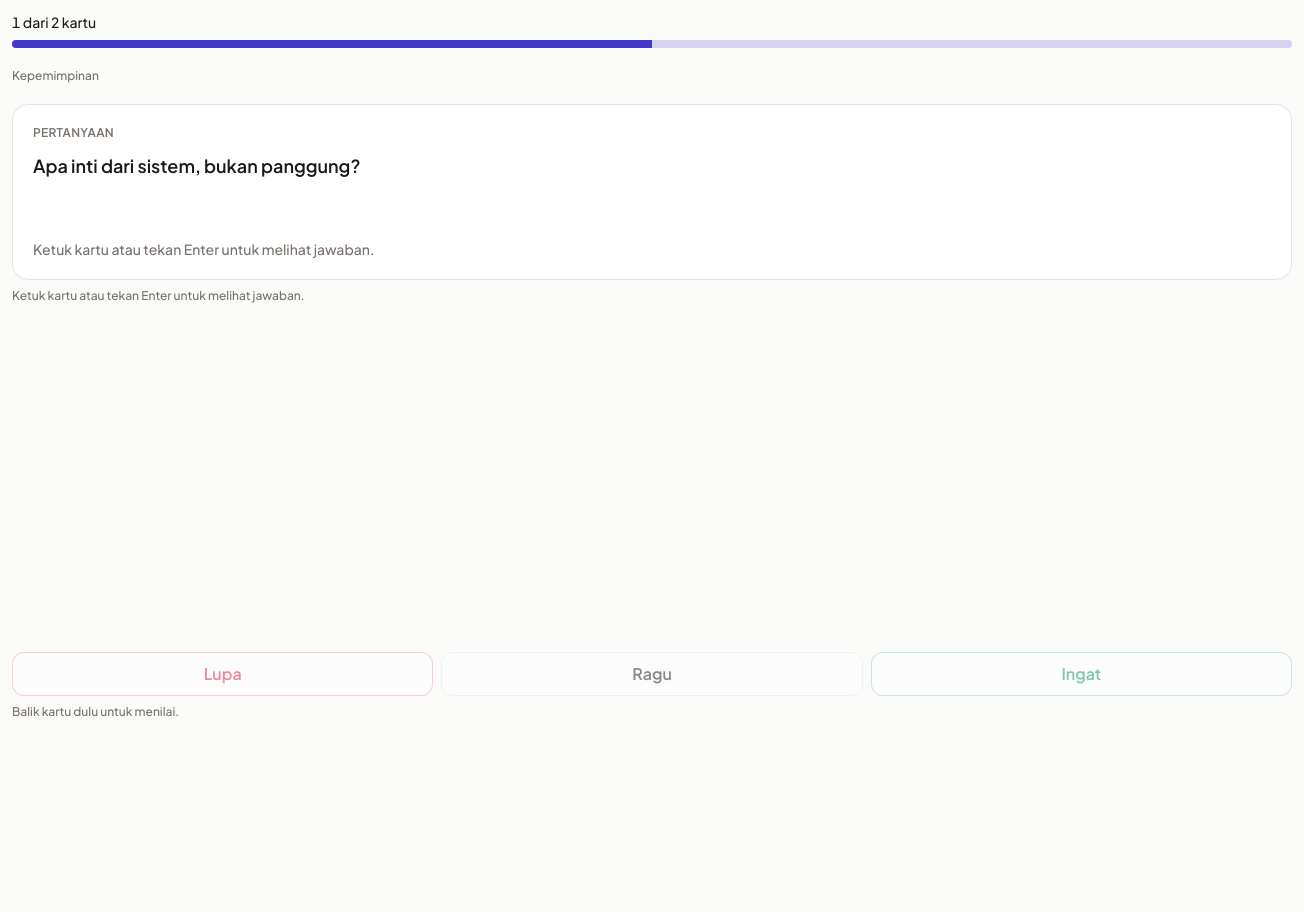
Test: ReviewSession › keeps the rating buttons disabled until the card is flipped
Expected: the button "Ingat" is disabled, [871,652,1292,696]
Click the button "Apa inti dari sistem". click: (652, 192)
box: [12,104,1292,280]
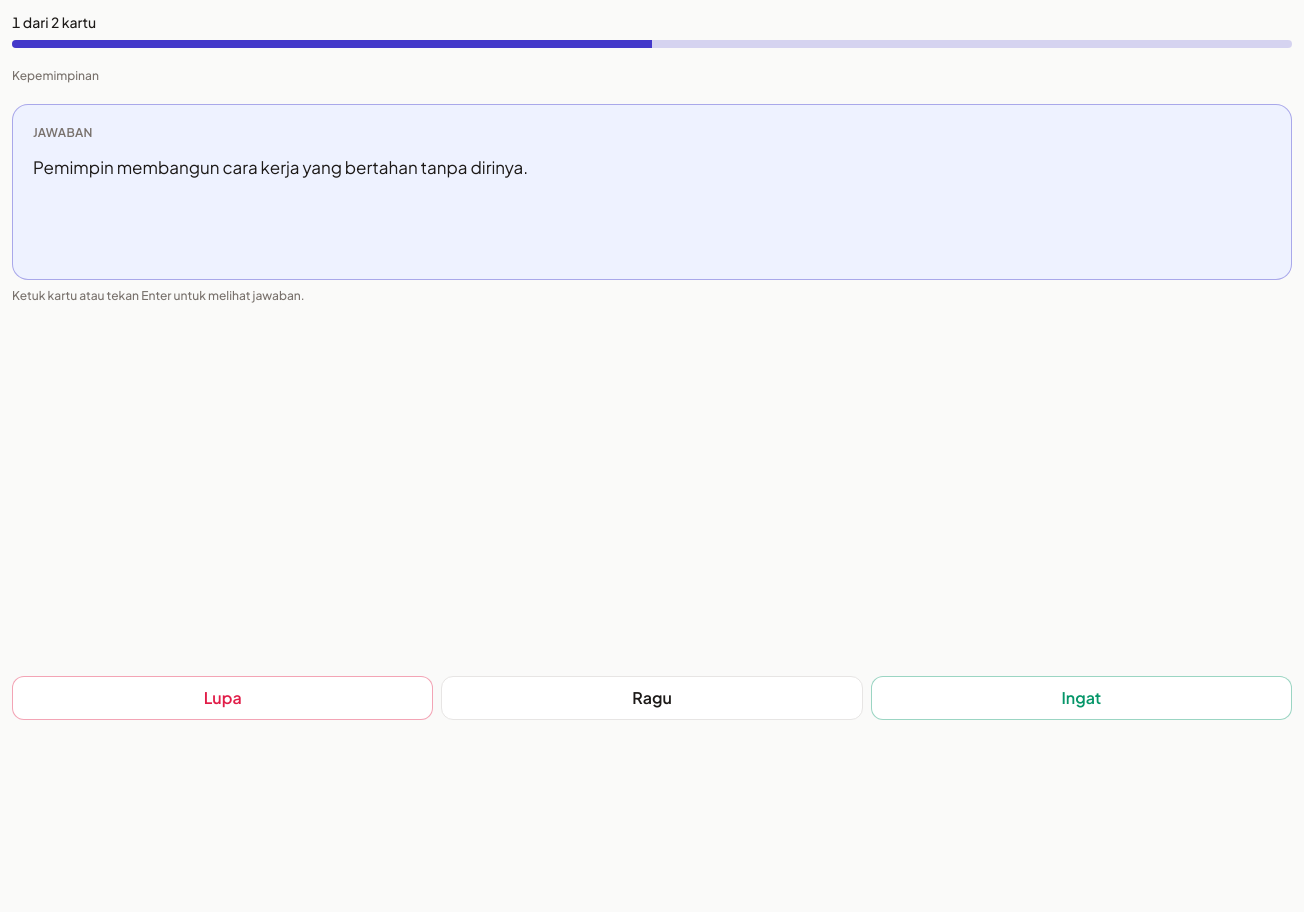
Expected: the button "Ingat" is enabled, [871,676,1292,720]
